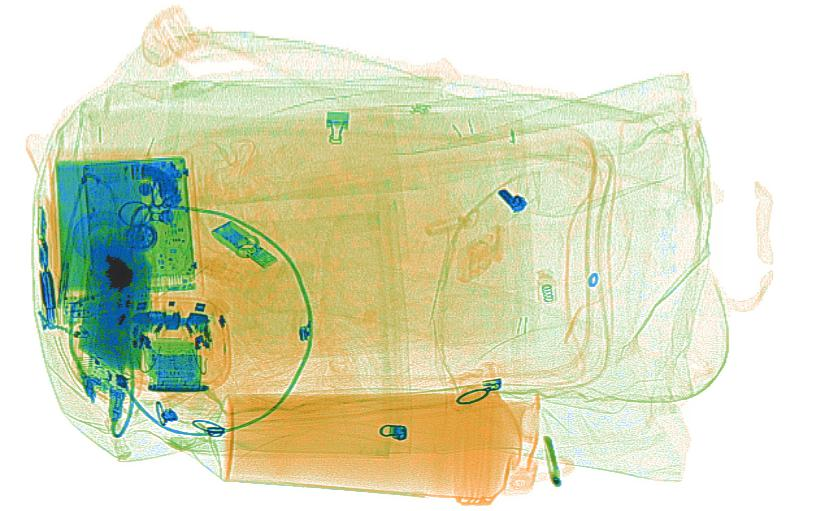USBFlashDisk: (210, 217, 282, 270)
